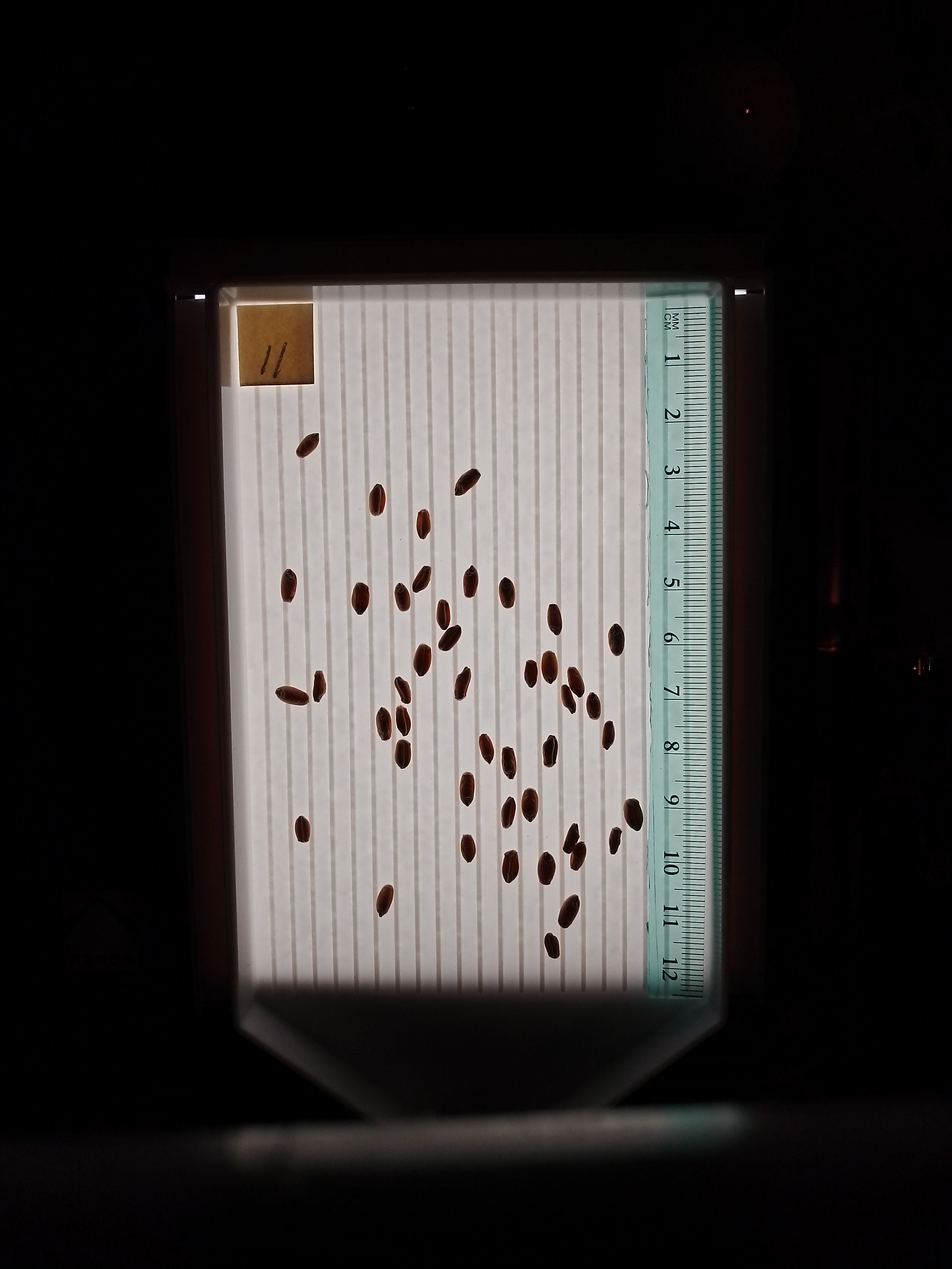seed mask: (276, 685, 309, 707), (454, 469, 480, 495), (559, 895, 579, 928), (624, 798, 643, 831), (351, 583, 370, 614), (280, 569, 297, 603), (376, 885, 394, 917), (413, 644, 431, 676), (368, 484, 386, 516), (439, 625, 461, 651), (521, 789, 538, 822), (538, 853, 556, 884), (297, 433, 319, 458), (454, 668, 471, 700), (608, 624, 625, 655), (376, 708, 392, 740), (567, 667, 584, 697), (413, 565, 431, 593), (542, 652, 558, 683), (503, 852, 519, 882), (460, 773, 475, 805), (499, 578, 515, 608), (463, 566, 478, 598), (502, 747, 517, 778), (543, 736, 558, 767), (312, 671, 327, 702), (395, 740, 411, 769), (395, 676, 411, 704), (570, 842, 586, 870), (564, 825, 579, 854), (295, 816, 311, 843), (394, 584, 410, 611), (396, 707, 411, 735), (502, 798, 516, 828), (548, 605, 562, 634), (417, 510, 431, 539), (479, 735, 494, 762), (561, 686, 576, 713), (544, 934, 560, 958), (461, 835, 475, 862), (437, 601, 450, 629), (587, 694, 601, 719), (602, 722, 615, 748), (609, 828, 622, 854), (524, 661, 537, 687)
